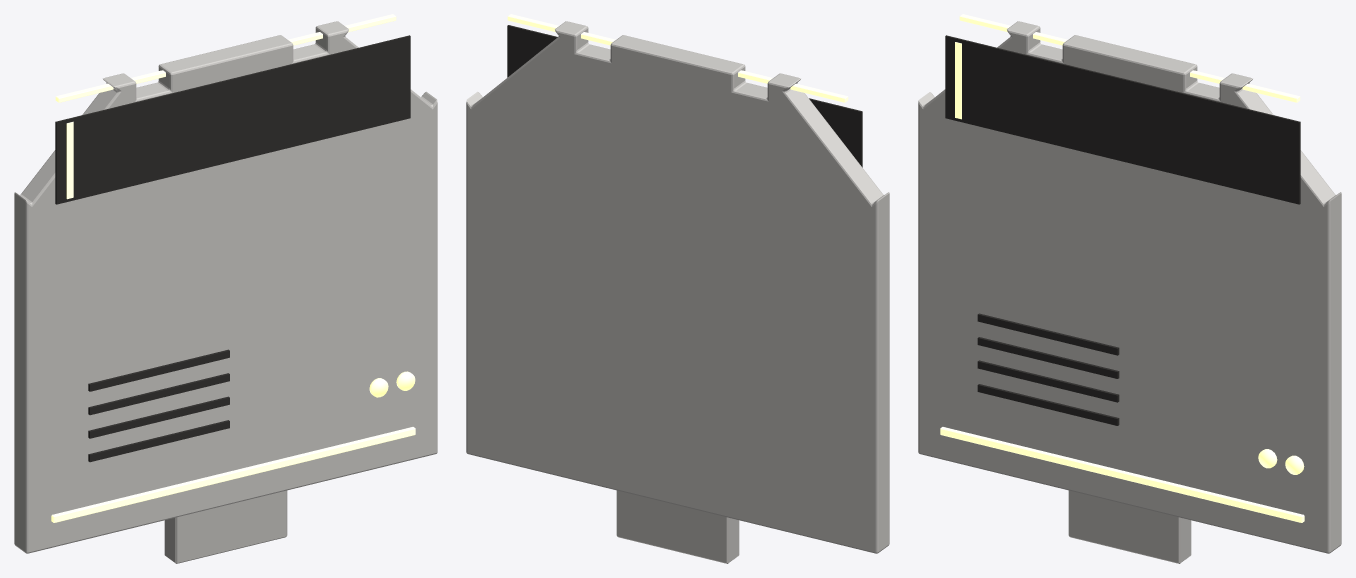
The model's file is server_omc.glb.
3 renders of one model, left to right at view 1: azimuth 30°, elevation 25°; view 2: azimuth 150°, elevation 25°; view 3: azimuth 330°, elevation 25°, orthographic.
Visible parts, largest first — view 1: GEO_Server_Card.001, GEO_Server_LabelSlot.001, GEO_Server_Plug.001, GEO_Server_Strip.001, GEO_Server_Strip_Top.001, GEO_Server_Vent_0, GEO_Server_Vent_2, GEO_Server_Vent_1, GEO_Server_Vent_3, GEO_Server_LabelTick.001; view 2: GEO_Server_Card.001, GEO_Server_Plug.001, GEO_Server_LabelSlot.001, GEO_Server_Strip_Top.001; view 3: GEO_Server_Card.001, GEO_Server_LabelSlot.001, GEO_Server_Plug.001, GEO_Server_Strip.001, GEO_Server_Strip_Top.001, GEO_Server_Vent_3, GEO_Server_Vent_1, GEO_Server_Vent_2, GEO_Server_Vent_0, GEO_Server_LabelTick.001.
Boxes of the visible parts, box(x1,y1,x2,y2) form: GEO_Server_Card.001: box(14, 21, 437, 553); GEO_Server_LabelSlot.001: box(55, 35, 410, 204); GEO_Server_Plug.001: box(164, 490, 287, 563); GEO_Server_Strip.001: box(51, 427, 415, 522); GEO_Server_Strip_Top.001: box(55, 14, 396, 102); GEO_Server_Vent_0: box(88, 420, 229, 462); GEO_Server_Vent_2: box(88, 373, 229, 415); GEO_Server_Vent_1: box(88, 396, 229, 438); GEO_Server_Vent_3: box(88, 349, 229, 391); GEO_Server_LabelTick.001: box(66, 121, 73, 199); GEO_Server_Card.001: box(466, 21, 889, 553); GEO_Server_Plug.001: box(616, 490, 739, 563); GEO_Server_LabelSlot.001: box(507, 25, 862, 167); GEO_Server_Strip_Top.001: box(507, 14, 848, 102); GEO_Server_Card.001: box(918, 21, 1341, 553); GEO_Server_LabelSlot.001: box(945, 35, 1300, 204); GEO_Server_Plug.001: box(1068, 490, 1191, 563); GEO_Server_Strip.001: box(940, 427, 1304, 522); GEO_Server_Strip_Top.001: box(959, 14, 1300, 102); GEO_Server_Vent_3: box(977, 313, 1119, 355); GEO_Server_Vent_1: box(977, 360, 1119, 402); GEO_Server_Vent_2: box(977, 337, 1119, 378); GEO_Server_Vent_0: box(977, 384, 1119, 425); GEO_Server_LabelTick.001: box(955, 42, 961, 119).
Bounding box in the file's own units: 0.3672 × 0.42 × 0.0238.
